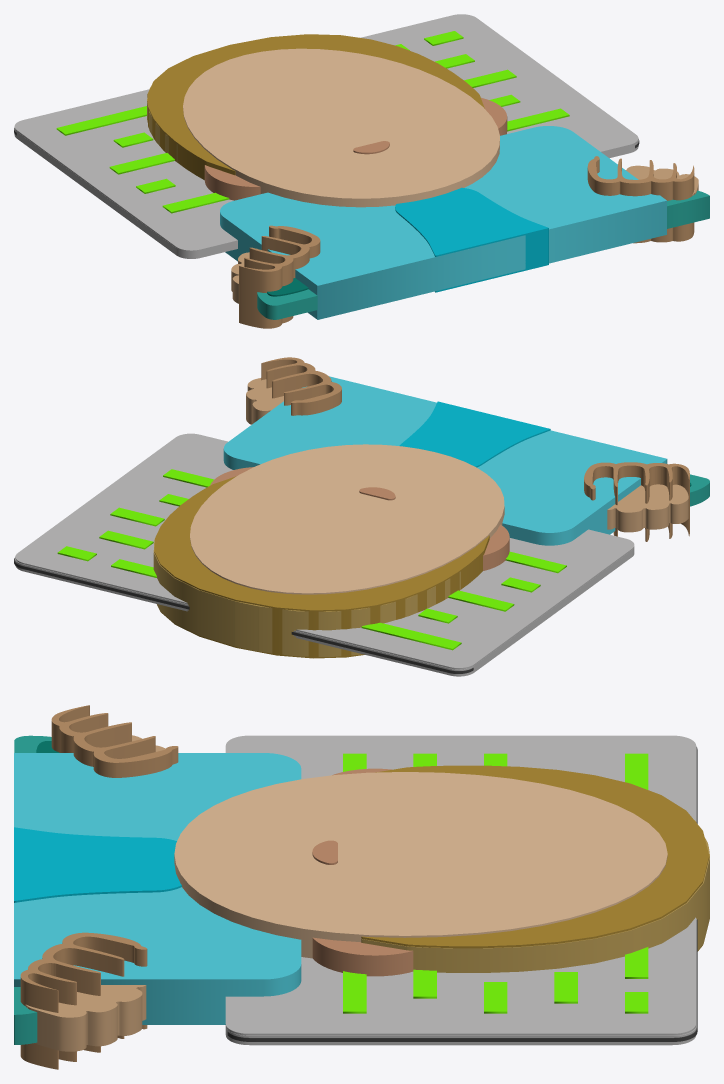
File: emoji_u1f468_1f3fc_200d_1f4bb.glb
The picture shows the model from 3 angles, top to bottom: view 1: azimuth 30°, elevation 25°; view 2: azimuth 150°, elevation 25°; view 3: azimuth 270°, elevation 25°; orthographic projection. The views are drawn at different scales.
Parts seen in each view (by area): view 1: emoji_u1f468_1f3fc_200d_1f4bb; view 2: emoji_u1f468_1f3fc_200d_1f4bb; view 3: emoji_u1f468_1f3fc_200d_1f4bb.
Boxes of the visible parts, x1,y1,x2,y2 form: emoji_u1f468_1f3fc_200d_1f4bb: (14,14,709,328); emoji_u1f468_1f3fc_200d_1f4bb: (14,357,709,676); emoji_u1f468_1f3fc_200d_1f4bb: (14,705,709,1069).
Size of the model in its own units: 0.0339 by 0.0042 by 0.0333.
